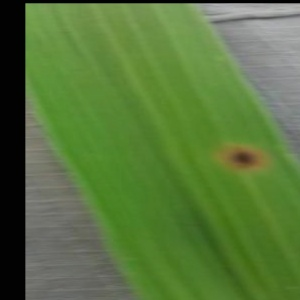Bacterial_Leaf_Blight: (208, 134, 270, 179)
